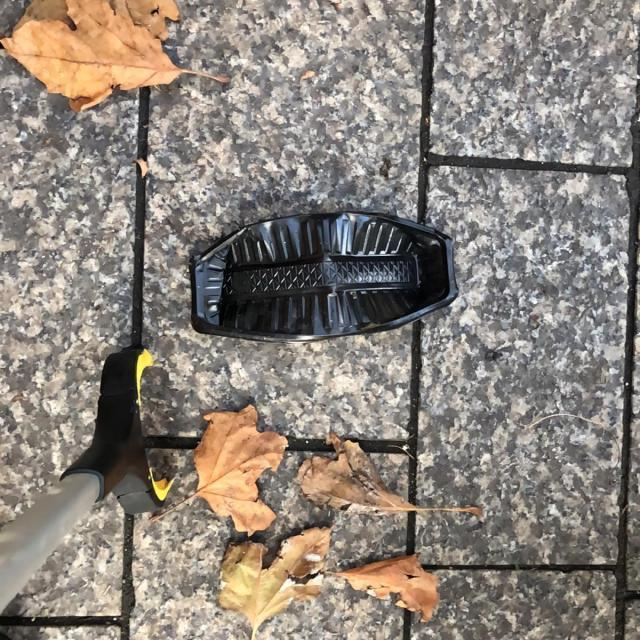Plastic: (186, 206, 461, 344)
